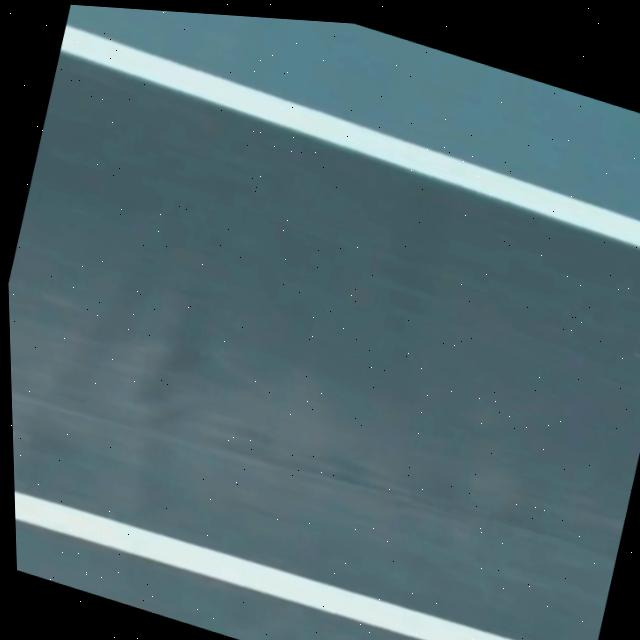center: (14, 489, 520, 640)
left: (60, 24, 640, 246)
